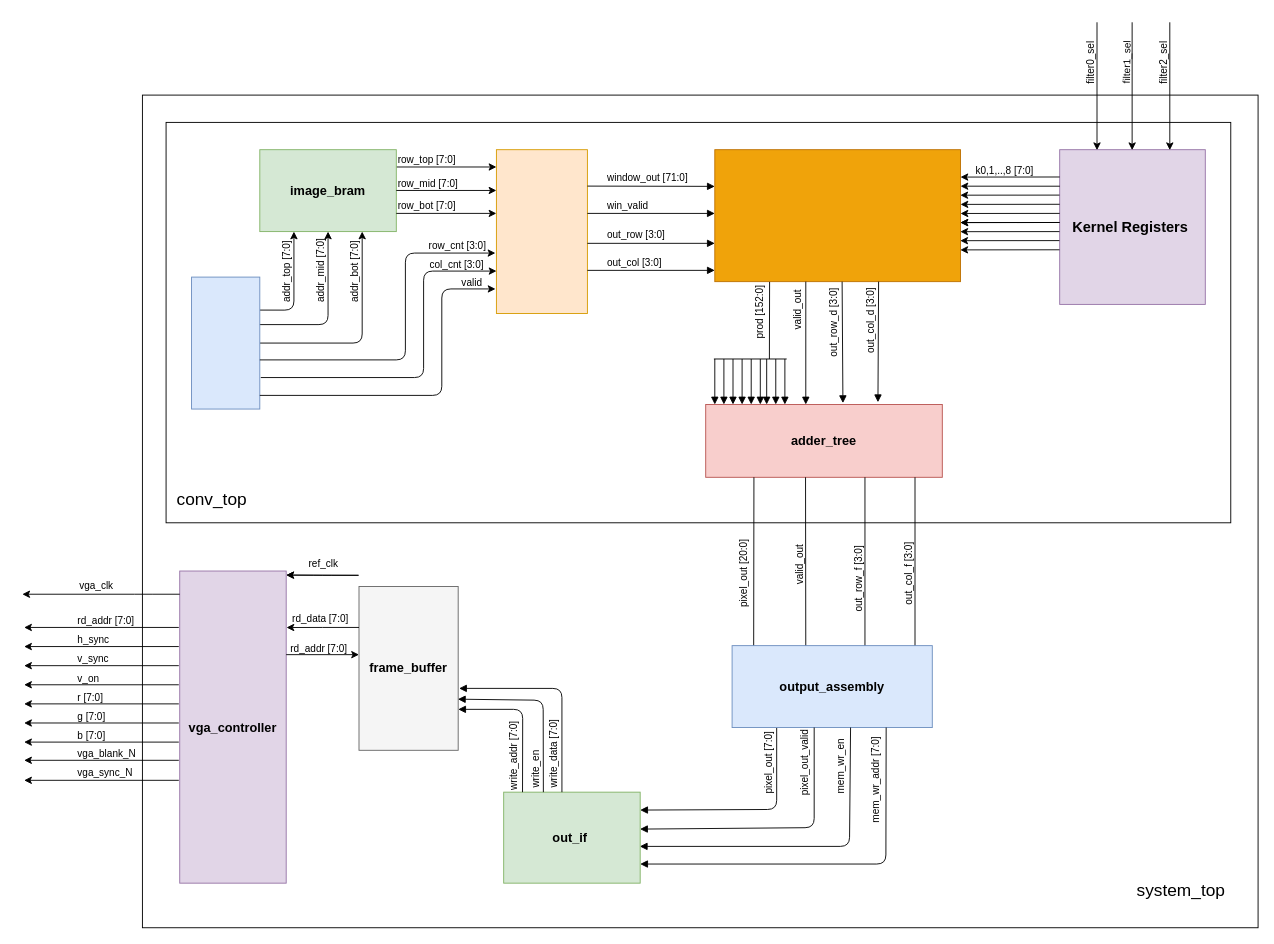
This 1274x944 diagram has some shape labels left out. Each missing label, with the centre of its shape:
"addr_gen" belongs at point 225,342.
"mac_mult_array" belongs at point 837,215.
"window_gen" belongs at point 541,231.
